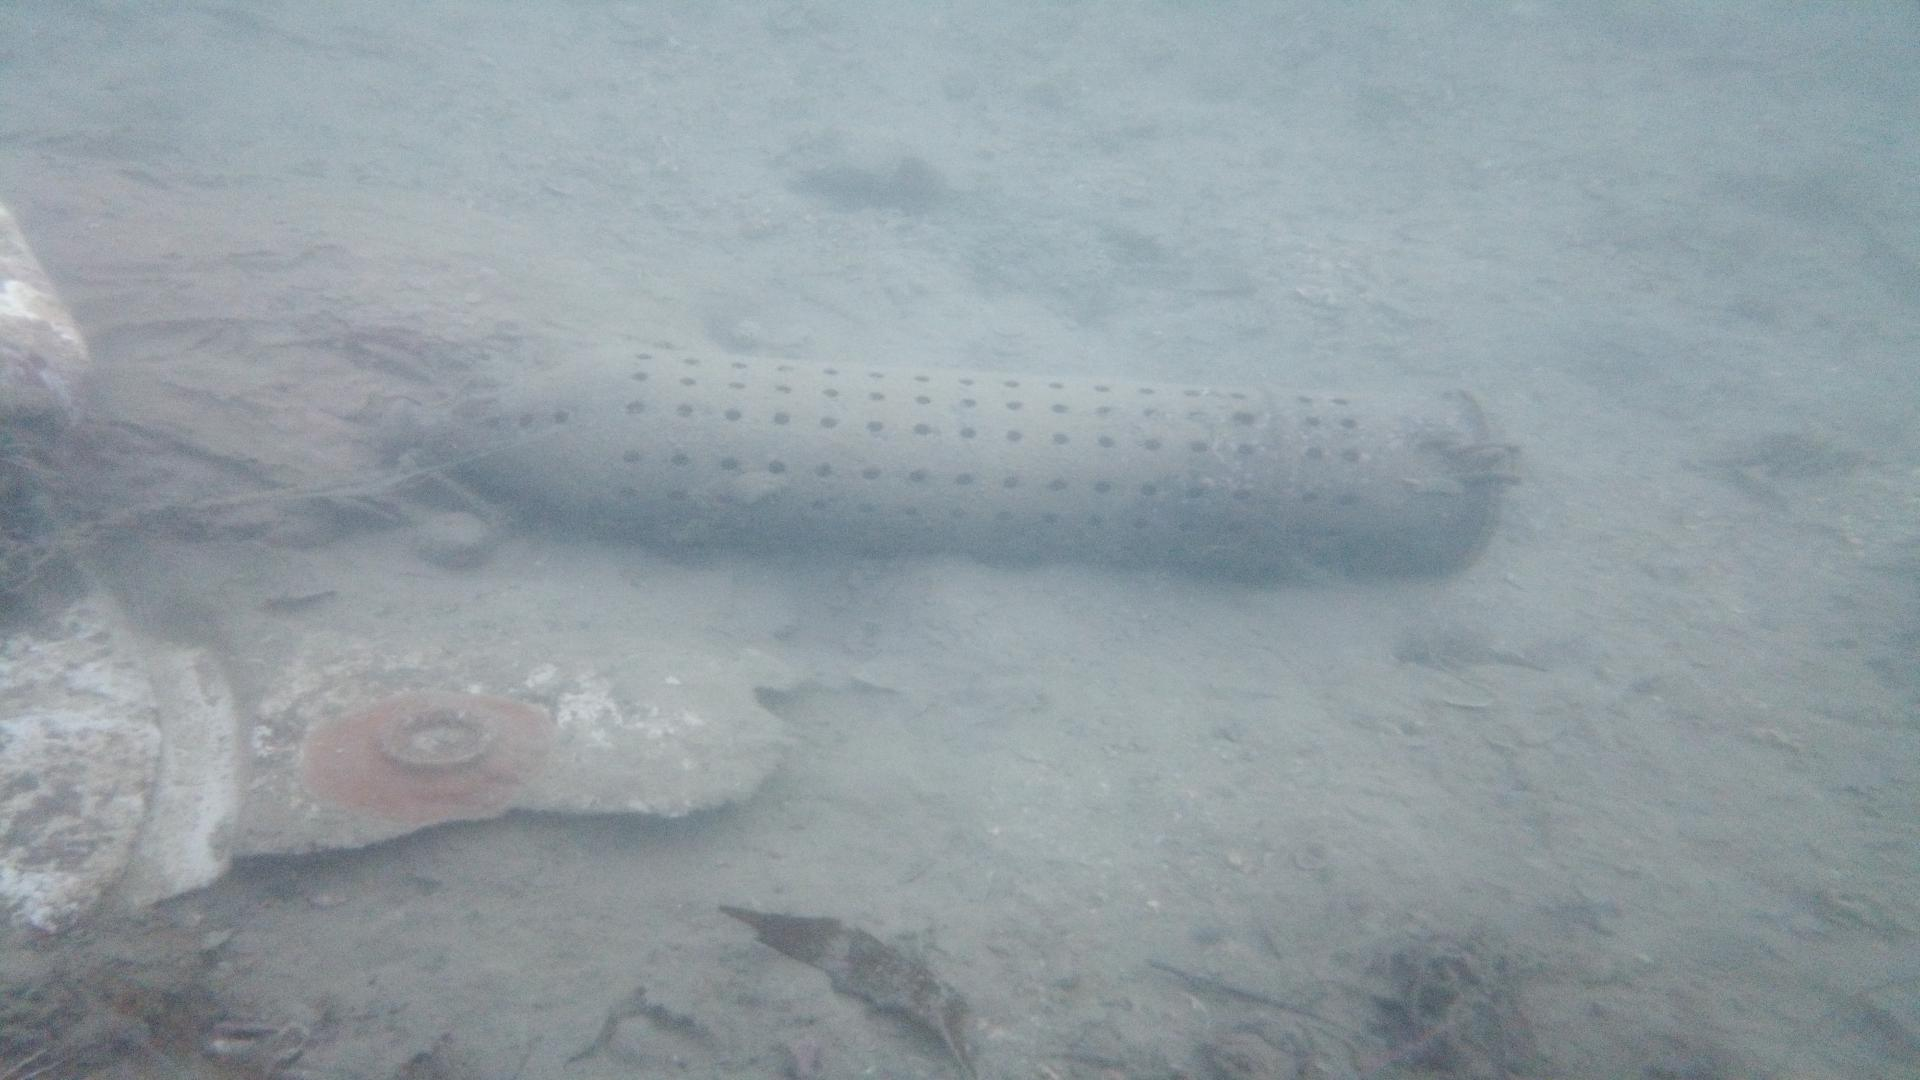eel fish trap: (425, 334, 1515, 583)
